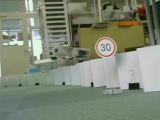speed_30: (94, 36, 117, 58)
